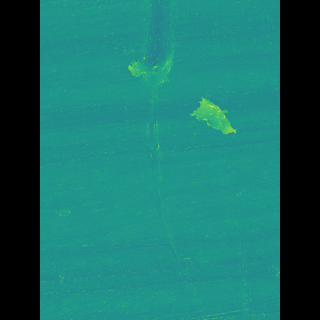Loch: (135, 0, 173, 184), (180, 92, 219, 140)
